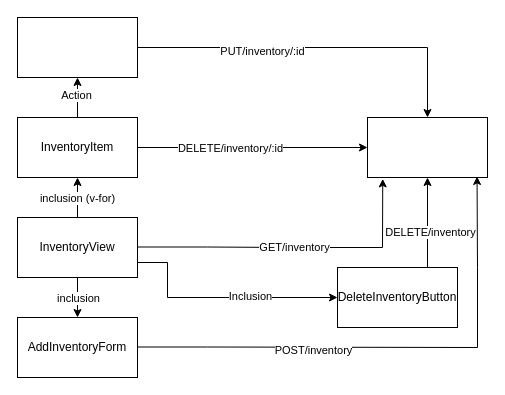
This 505x395 diagram has some shape labels left out. Here are the shapes that lost their labels. From the top down, the box of each, then its label:
(16, 16, 138, 78): EditInventoryForm
(366, 116, 488, 178): Serveur
